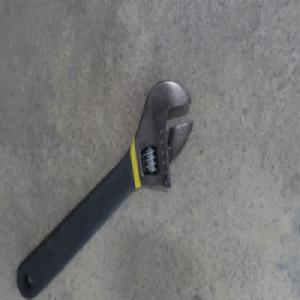AdjustableWrench: (18, 79, 194, 290)
